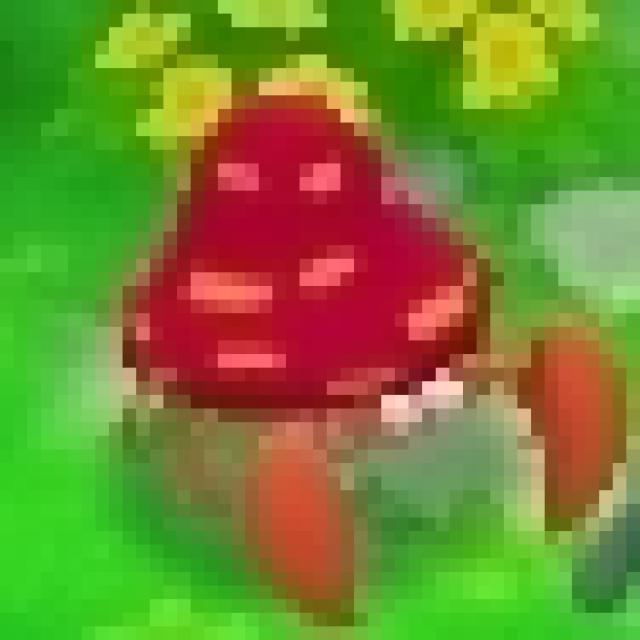Parasect: (129, 104, 616, 613)
